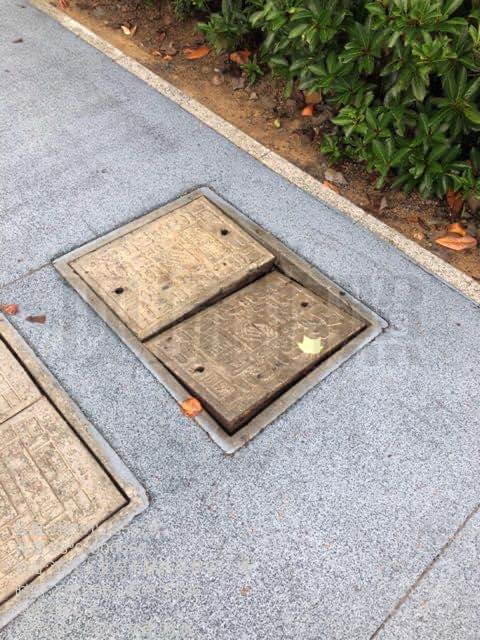uncovered: (51, 185, 389, 456)
